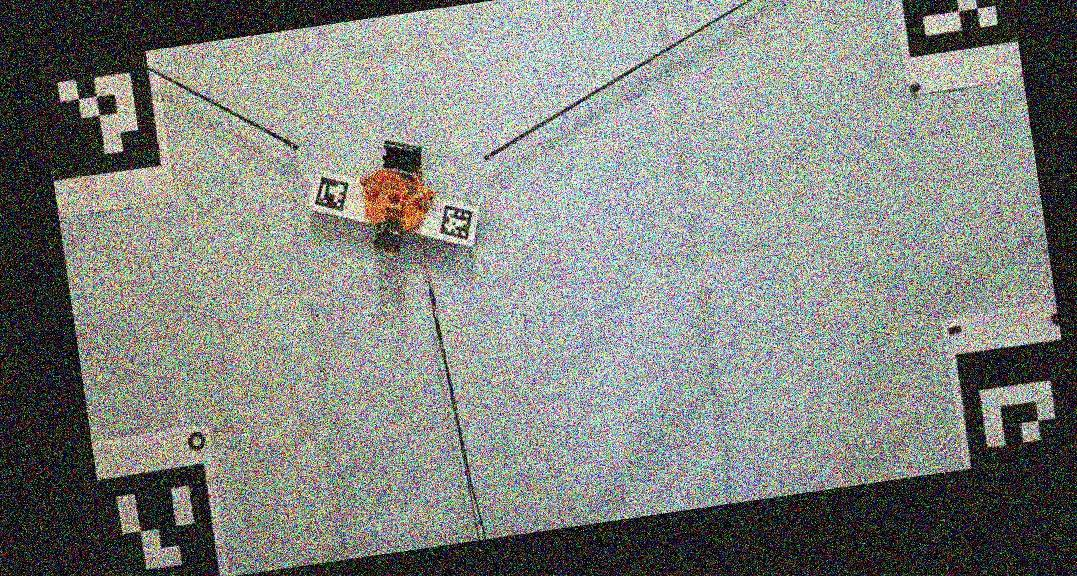robot: (360, 140, 432, 254)
